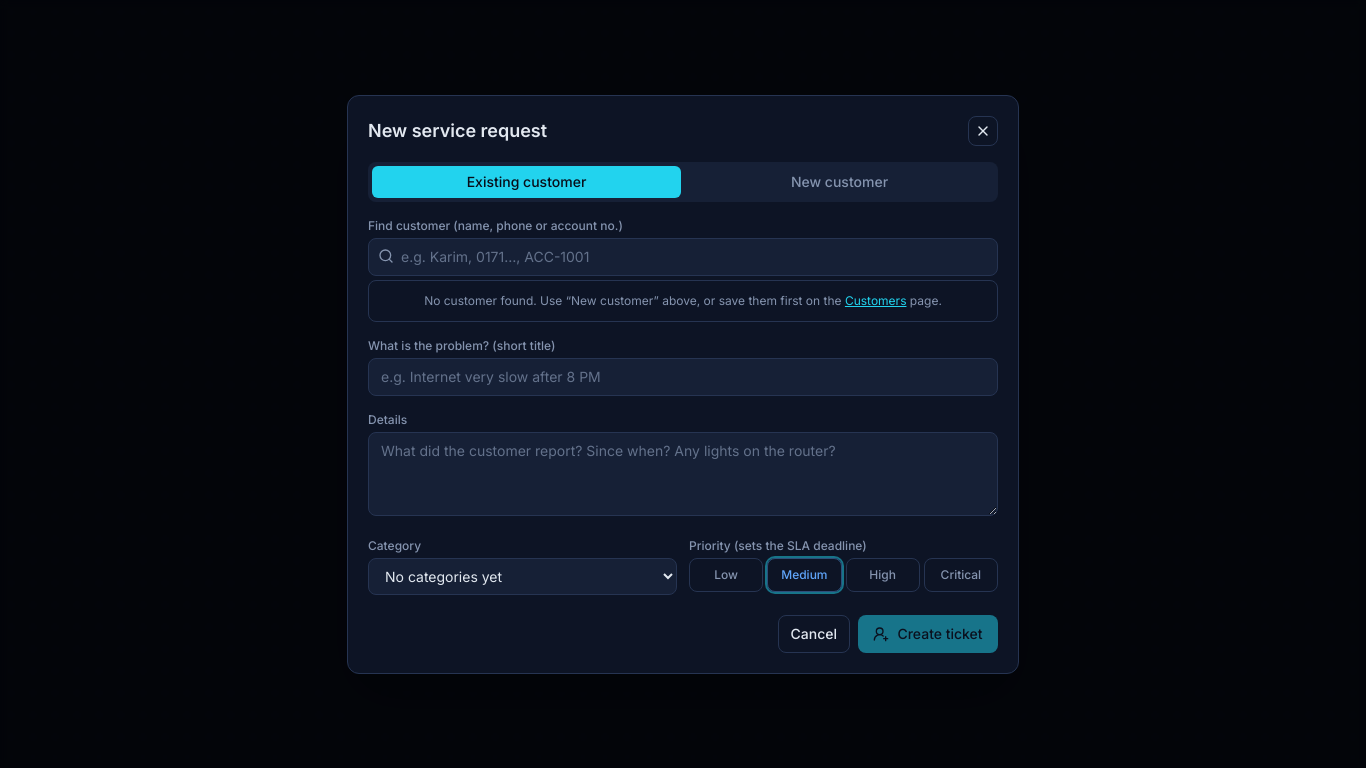
Test case: forms › New ticket form keeps submit disabled until valid and validates on blur
Expected: the button "Create ticket" is disabled, [858, 614, 998, 652]
Step 1. Click the tab "New customer" → x=840, y=182, box [685, 166, 994, 198]
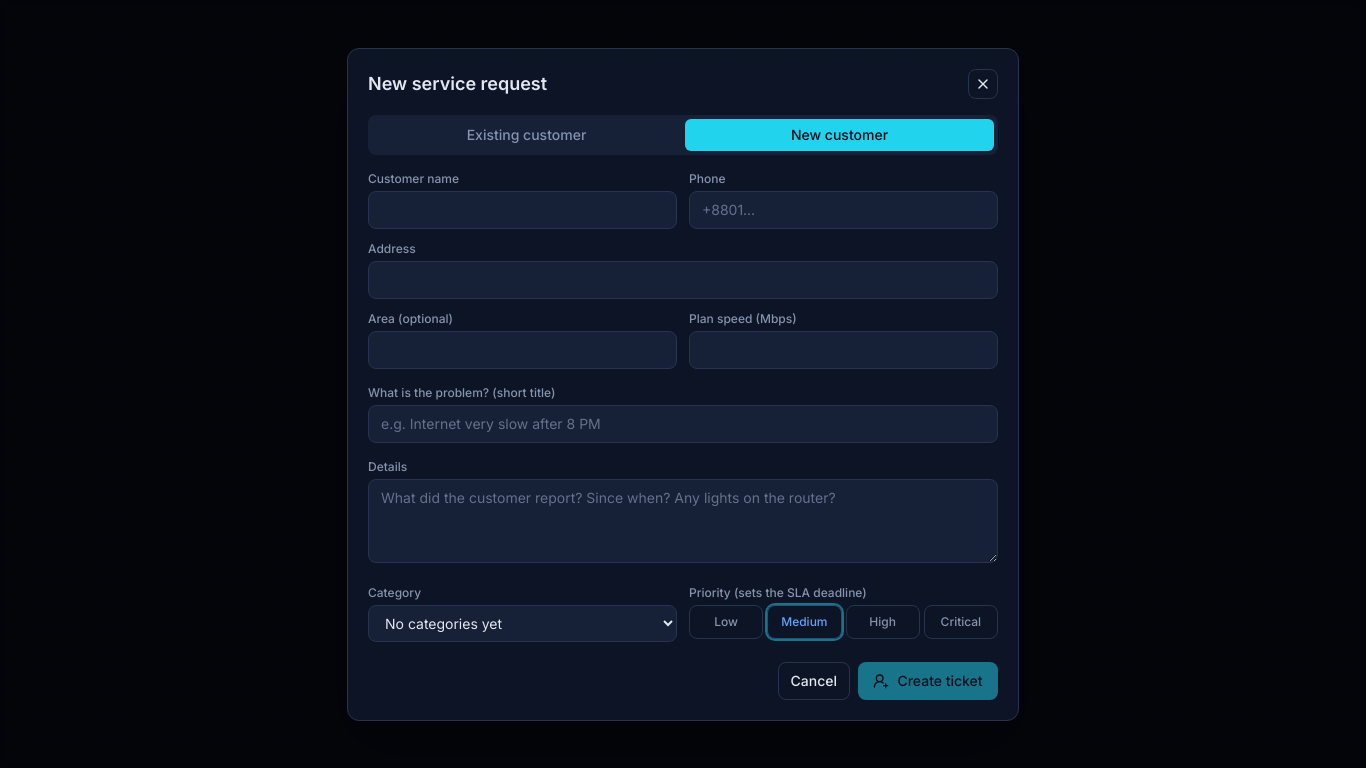
Step 2. Type "123" into the field labelled "Phone" → x=844, y=210, box [689, 190, 998, 228]
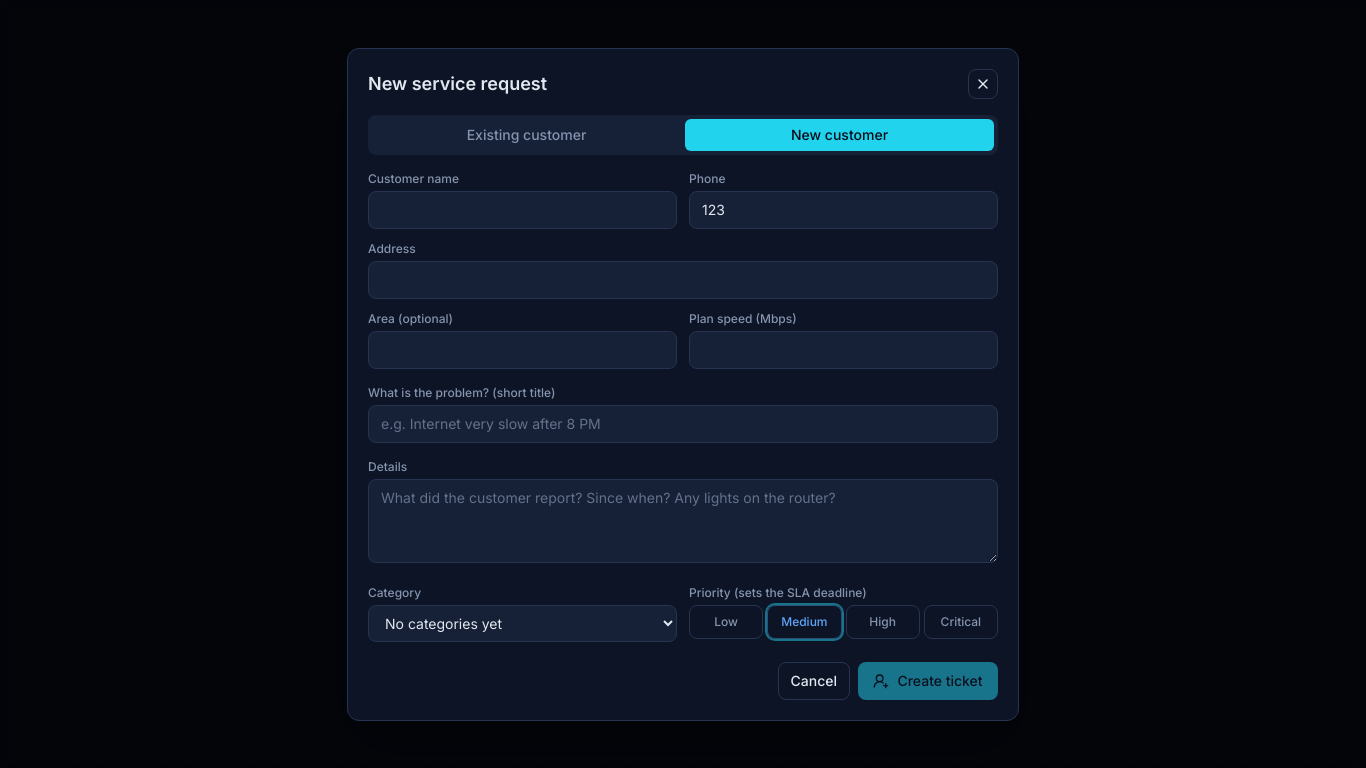
Step 3. Leave the field labelled "Phone", box [689, 190, 998, 228]
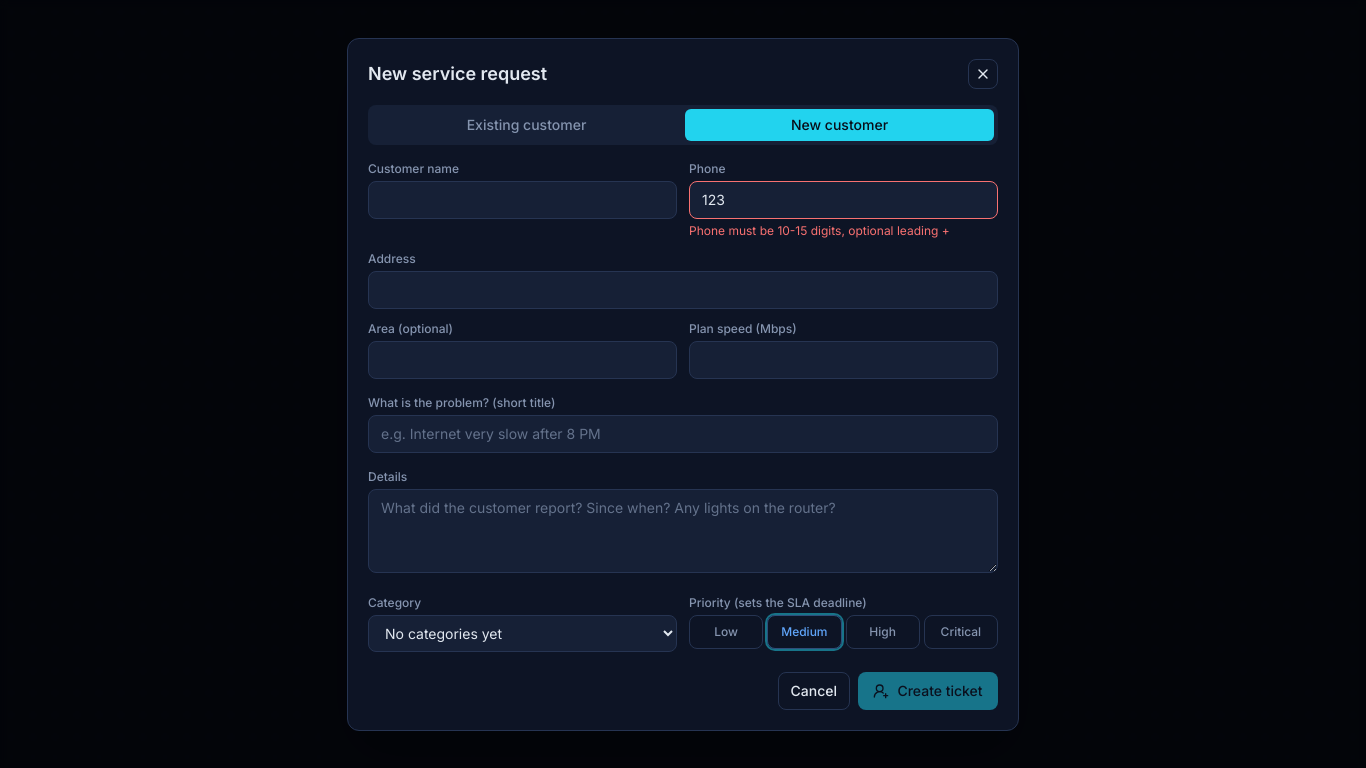
Expected: the button "Create ticket" is disabled, [858, 672, 998, 710]
Now the text "Phone must be 10-15 digits, optional leading +" is shown, box [689, 222, 950, 238]
